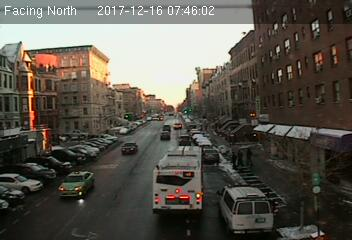bus: (152, 145, 206, 217)
car: (57, 170, 95, 198), (204, 148, 219, 164), (121, 141, 138, 153), (178, 134, 191, 145), (160, 131, 171, 138)
pedestrian: (229, 149, 239, 170), (236, 148, 244, 167), (246, 146, 253, 166)
police: (216, 182, 275, 235)
